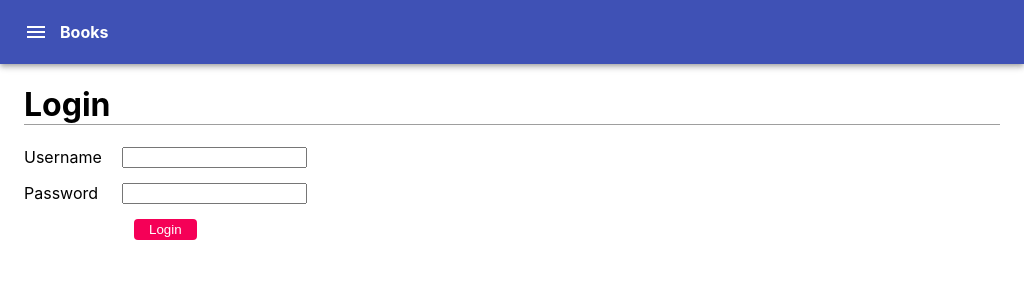
Test: Login › should fail with invalid credentials
Type "tanja" into the field with id "username" at (215, 158), box [122,147,307,168]
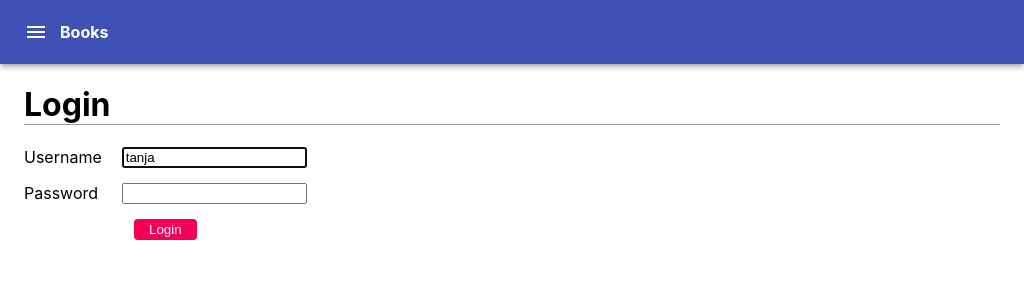
Type "abc123" into the password field labelled "Password" at (215, 194), box [122,183,307,204]
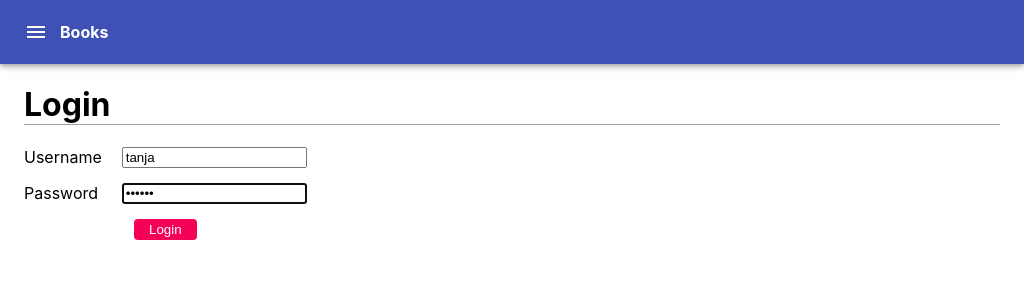
Click the button with class "login-button" at (166, 230), box [134,219,197,240]
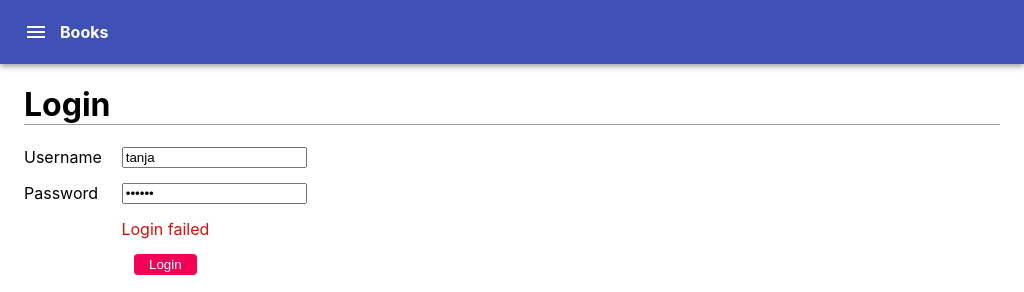
Expected: the text "Login failed" is shown, [122,219,209,239]
